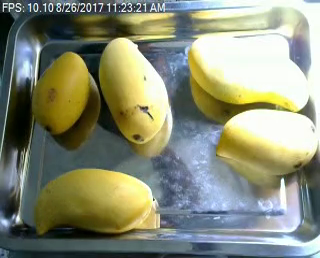Mango: (188, 36, 312, 111), (34, 168, 151, 235), (99, 37, 168, 143), (215, 107, 317, 176), (31, 51, 89, 133)
